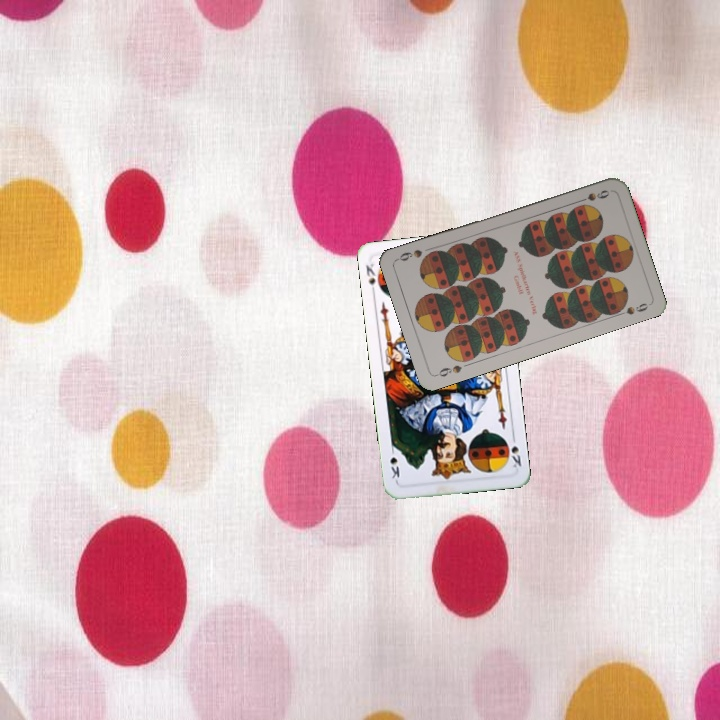S9: (573, 186, 612, 206), (432, 361, 464, 379)
SK: (502, 431, 524, 470), (362, 260, 384, 297)
